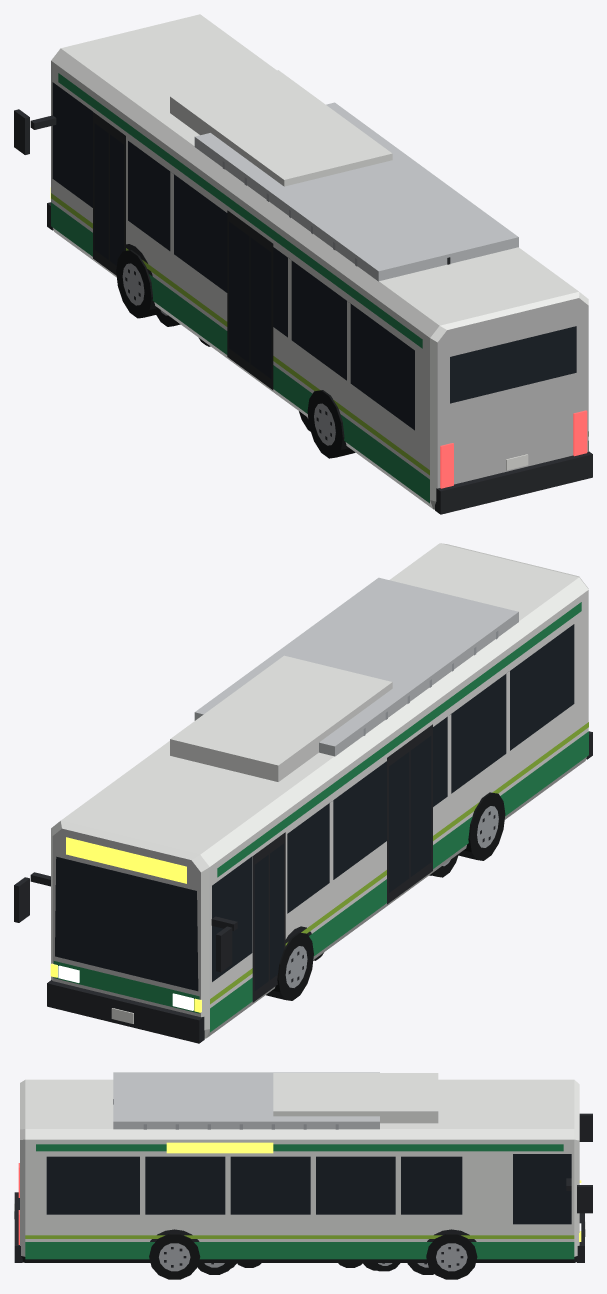
Rendered from cars.glb.
3 renders of one model, top to bottom at view 1: azimuth 30°, elevation 25°; view 2: azimuth 150°, elevation 25°; view 3: azimuth 270°, elevation 25°, orthographic. The views are drawn at different scales.
Visible parts, largest first — view 1: CV_Bus, CV_Truck; view 2: CV_Bus, CV_Truck; view 3: CV_Bus, CV_Truck.
Boxes of the visible parts, bbox=[...] form: CV_Bus: bbox=[14, 14, 592, 514]; CV_Truck: bbox=[156, 102, 518, 431]; CV_Bus: bbox=[14, 543, 592, 1043]; CV_Truck: bbox=[194, 577, 518, 877]; CV_Bus: bbox=[14, 1073, 592, 1279]; CV_Truck: bbox=[113, 1072, 434, 1274].
Size of the model in its own units: 3.25 by 3.29 by 10.86.
